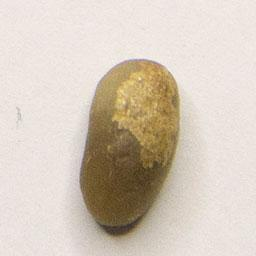longberry: (74, 56, 184, 232)
